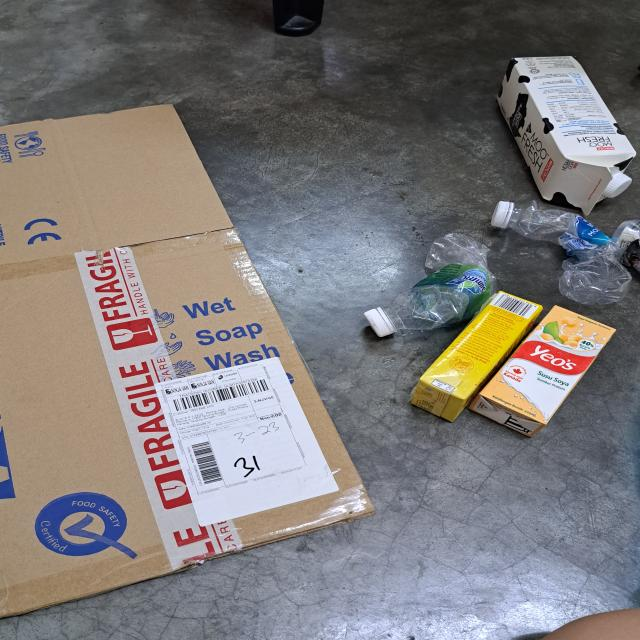cardboard: (0, 102, 376, 618)
drink carton: (496, 56, 637, 214), (471, 306, 616, 438), (409, 291, 542, 422)
plastic bottle: (493, 197, 640, 306), (361, 233, 496, 337), (491, 200, 516, 230)
plastic bottle cap: (363, 307, 398, 339), (604, 172, 631, 198)
